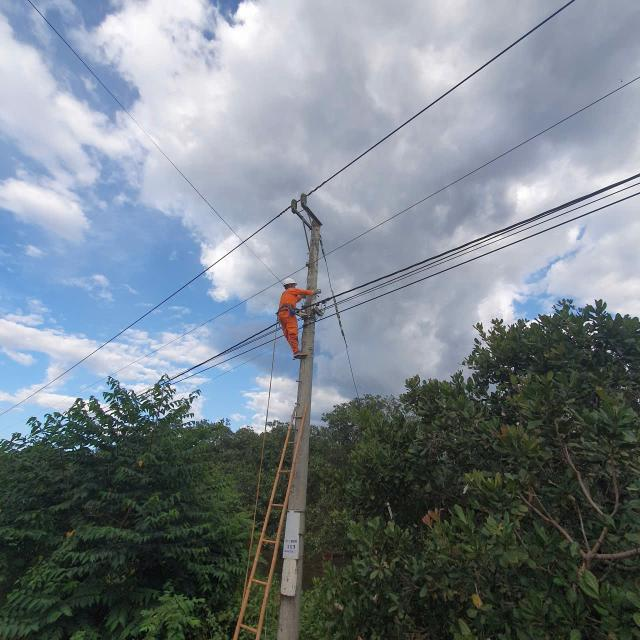gloves: (312, 286, 322, 298)
harness: (275, 301, 307, 317)
helmet: (281, 273, 301, 290)
shoes: (291, 349, 309, 361)
